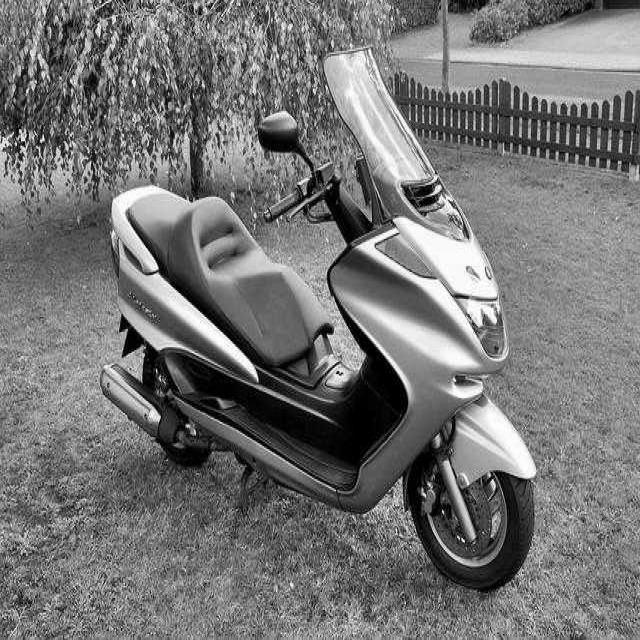Motorcycle: (100, 49, 536, 589)
